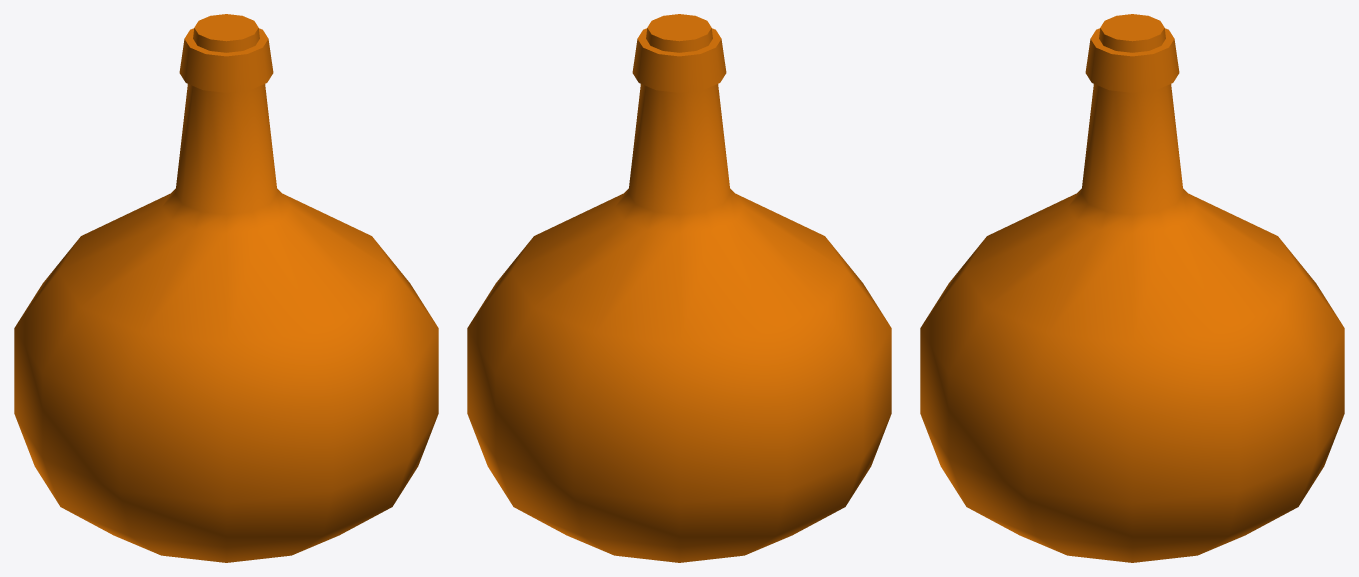
The model's file is SM_Bottle3.fbx.
3 renders of one model, left to right at view 1: azimuth 30°, elevation 25°; view 2: azimuth 150°, elevation 25°; view 3: azimuth 270°, elevation 25°, orthographic.
Parts seen in each view (by area): view 1: SM_Bottle3; view 2: SM_Bottle3; view 3: SM_Bottle3.
Boxes of the visible parts, <box> form: SM_Bottle3: <box>14,14,438,562</box>; SM_Bottle3: <box>467,14,891,562</box>; SM_Bottle3: <box>920,14,1344,562</box>.
Size of the model in its own units: 85.88 by 107 by 85.88.
